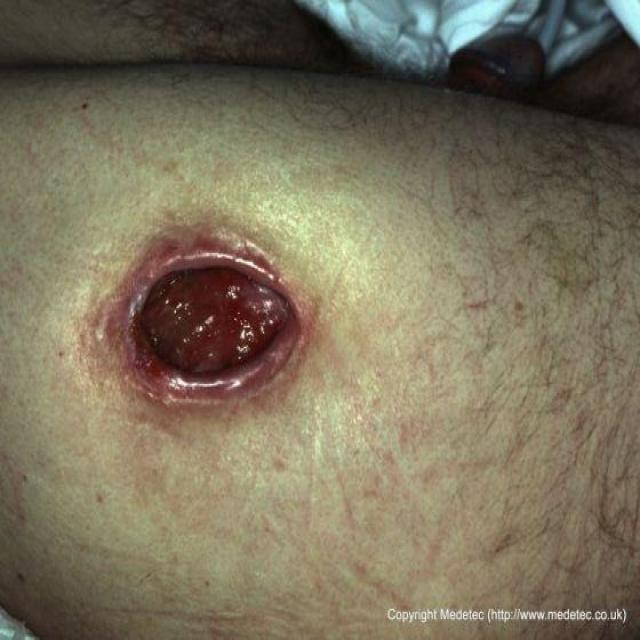stage-3: (134, 264, 294, 385)
